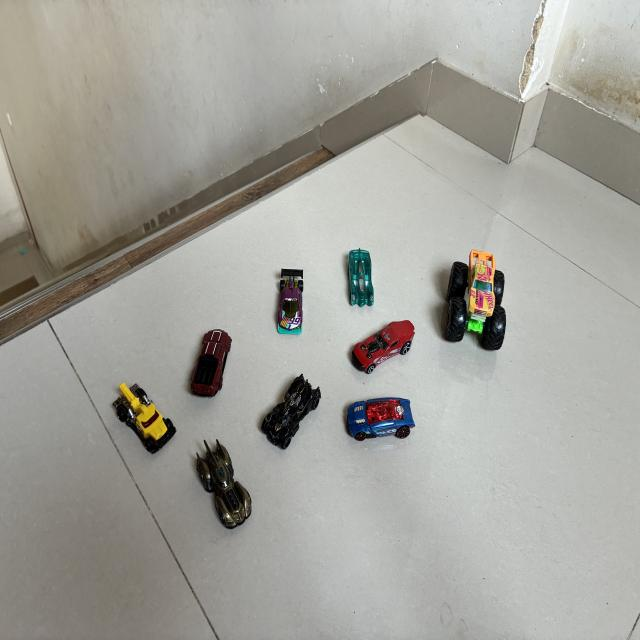cars: (446, 250, 506, 350), (197, 440, 251, 528), (113, 383, 175, 453), (262, 375, 321, 448), (351, 320, 414, 373), (347, 397, 414, 440), (191, 330, 232, 395), (278, 269, 303, 333), (349, 249, 373, 306)
